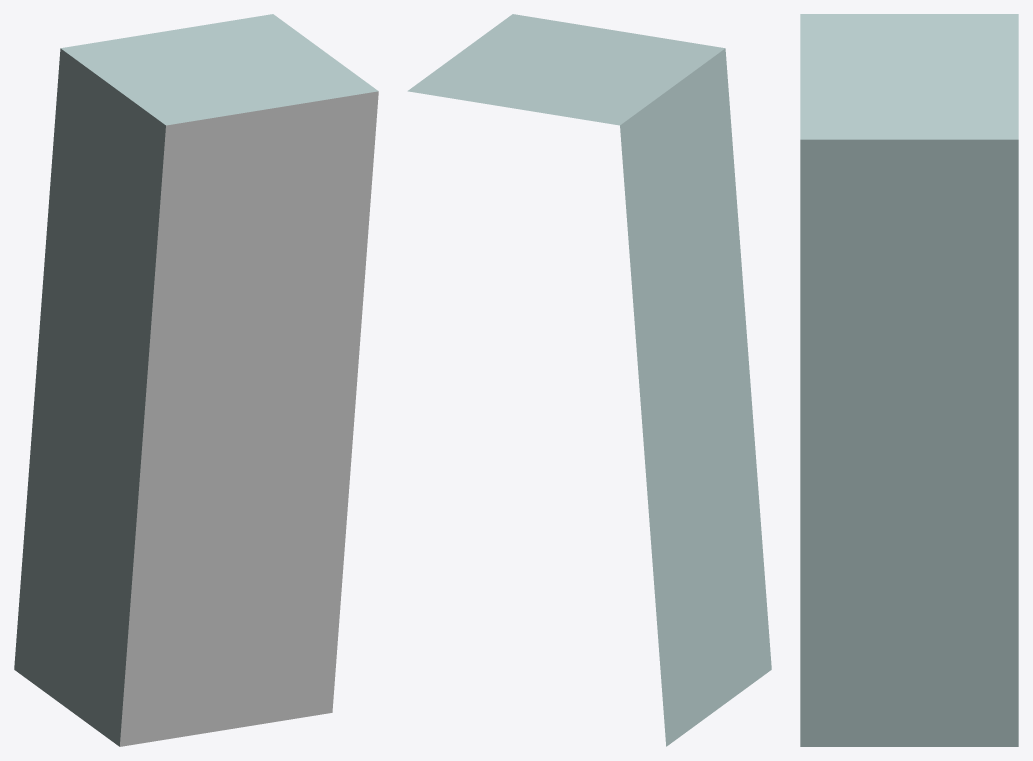
3 views of the same model, side by side, from view 1: azimuth 30°, elevation 25°; view 2: azimuth 150°, elevation 25°; view 3: azimuth 270°, elevation 25° (orthographic). The views are drawn at different scales.
Visible parts, largest first — view 1: 0_0_2_0_2_0_1_3_2; view 2: 0_0_2_0_2_0_1_3_2; view 3: 0_0_2_0_2_0_1_3_2.
Part boxes in pixels (bbox=[...]): 0_0_2_0_2_0_1_3_2: bbox=[14, 14, 378, 746]; 0_0_2_0_2_0_1_3_2: bbox=[407, 14, 771, 746]; 0_0_2_0_2_0_1_3_2: bbox=[800, 14, 1018, 746].
Bounding box in the file's own units: 4.25 × 9.84 × 3.
